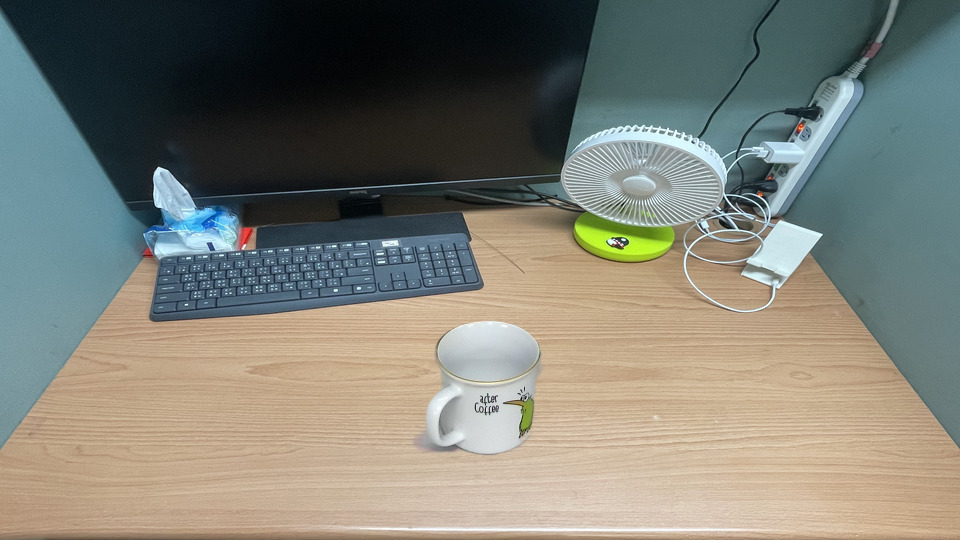blade: (383, 391, 476, 409)
round_grasp: (475, 383, 551, 432)
